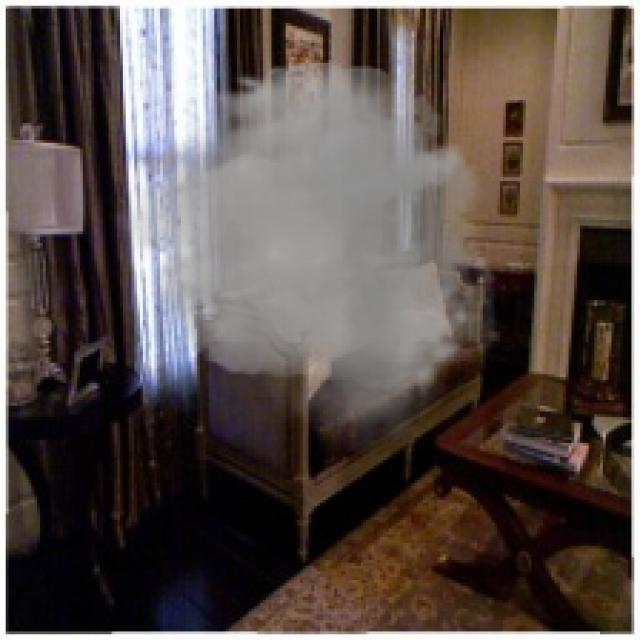smoke: (106, 52, 514, 454)
